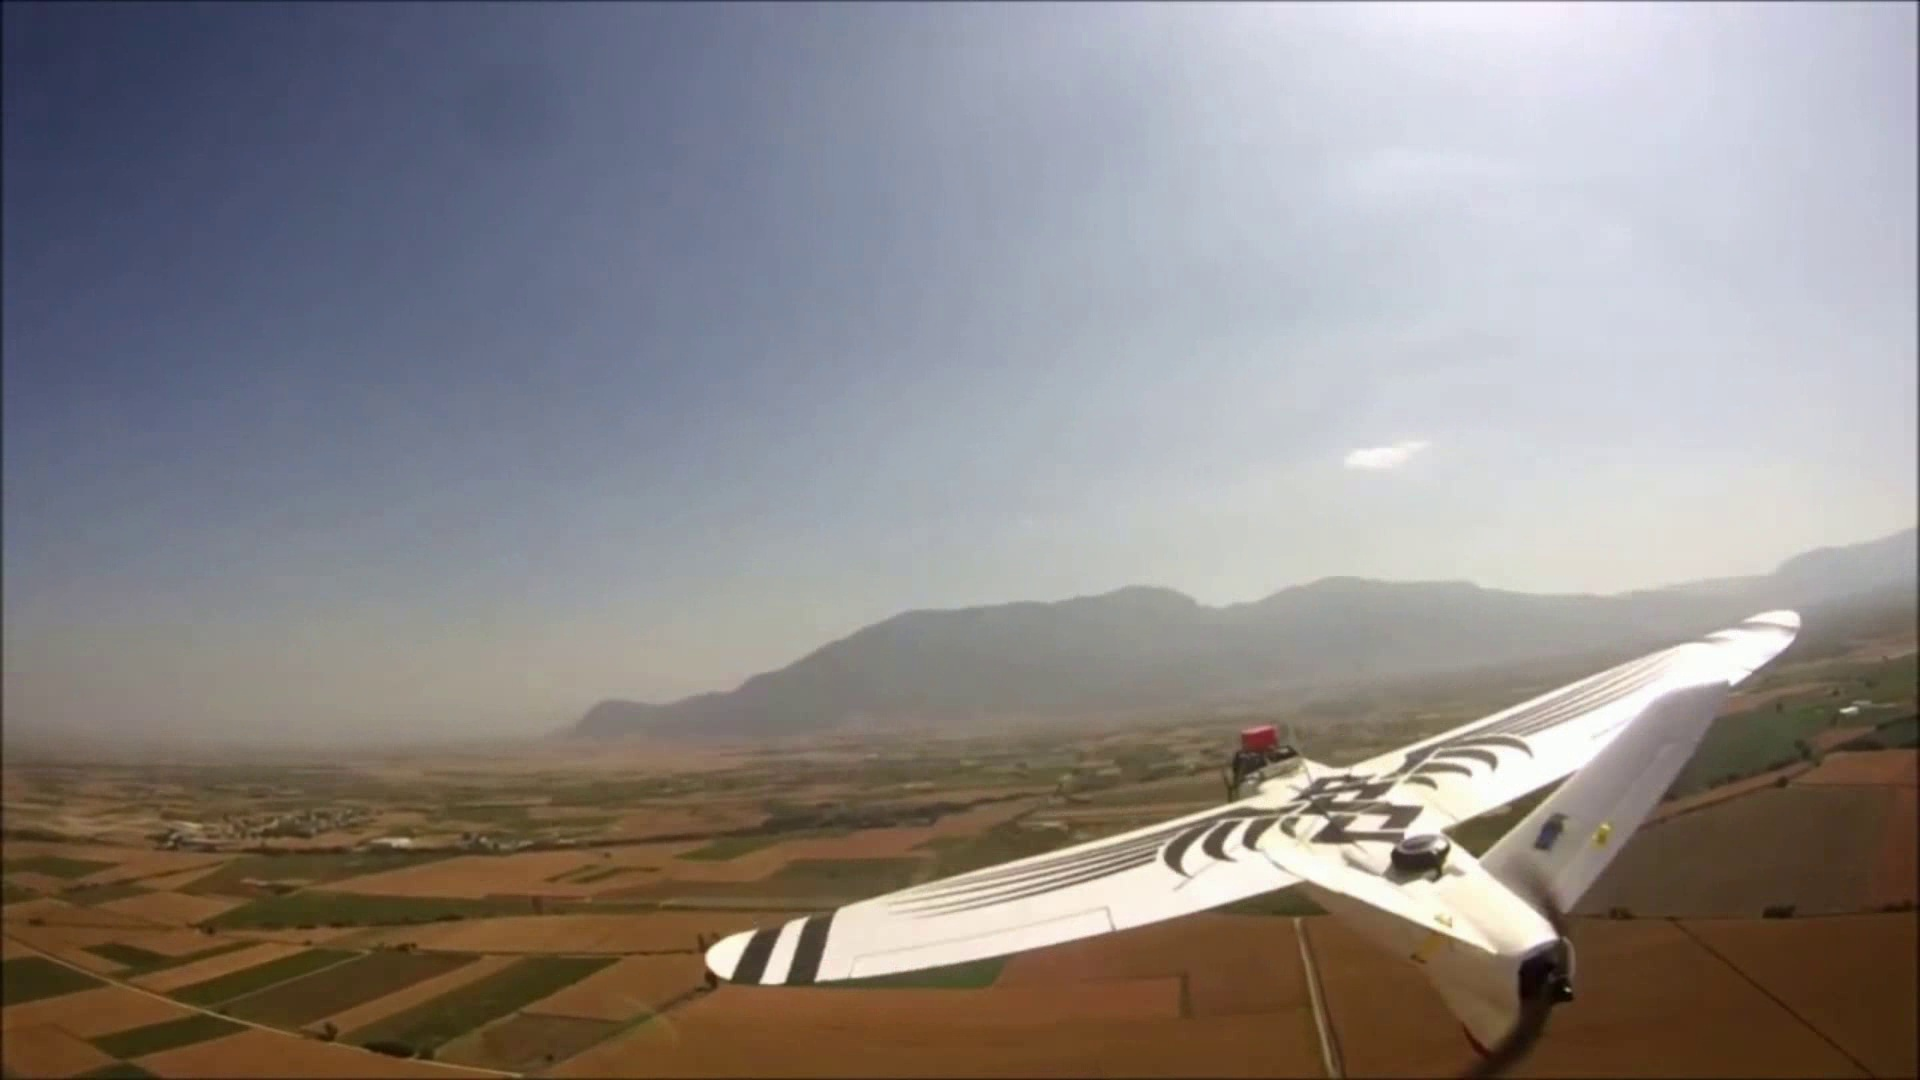airplane: (133, 611, 1836, 1075)
